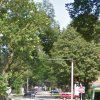Tree: (48, 11, 100, 83)
